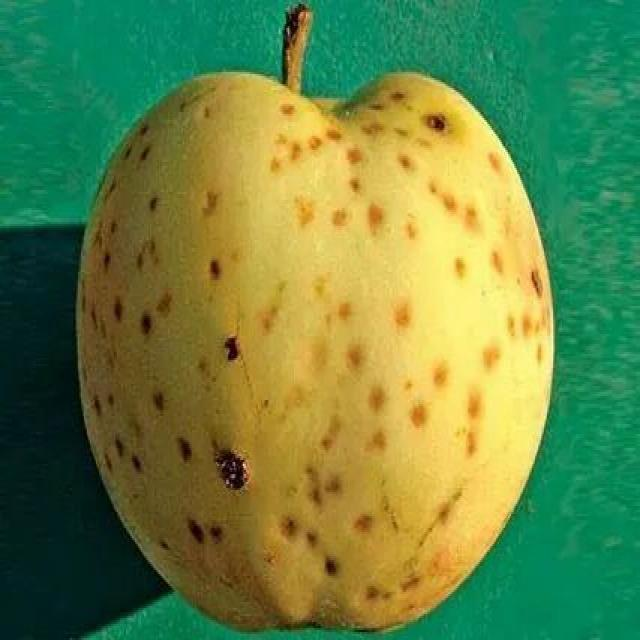Rotten: (73, 73, 548, 640)
